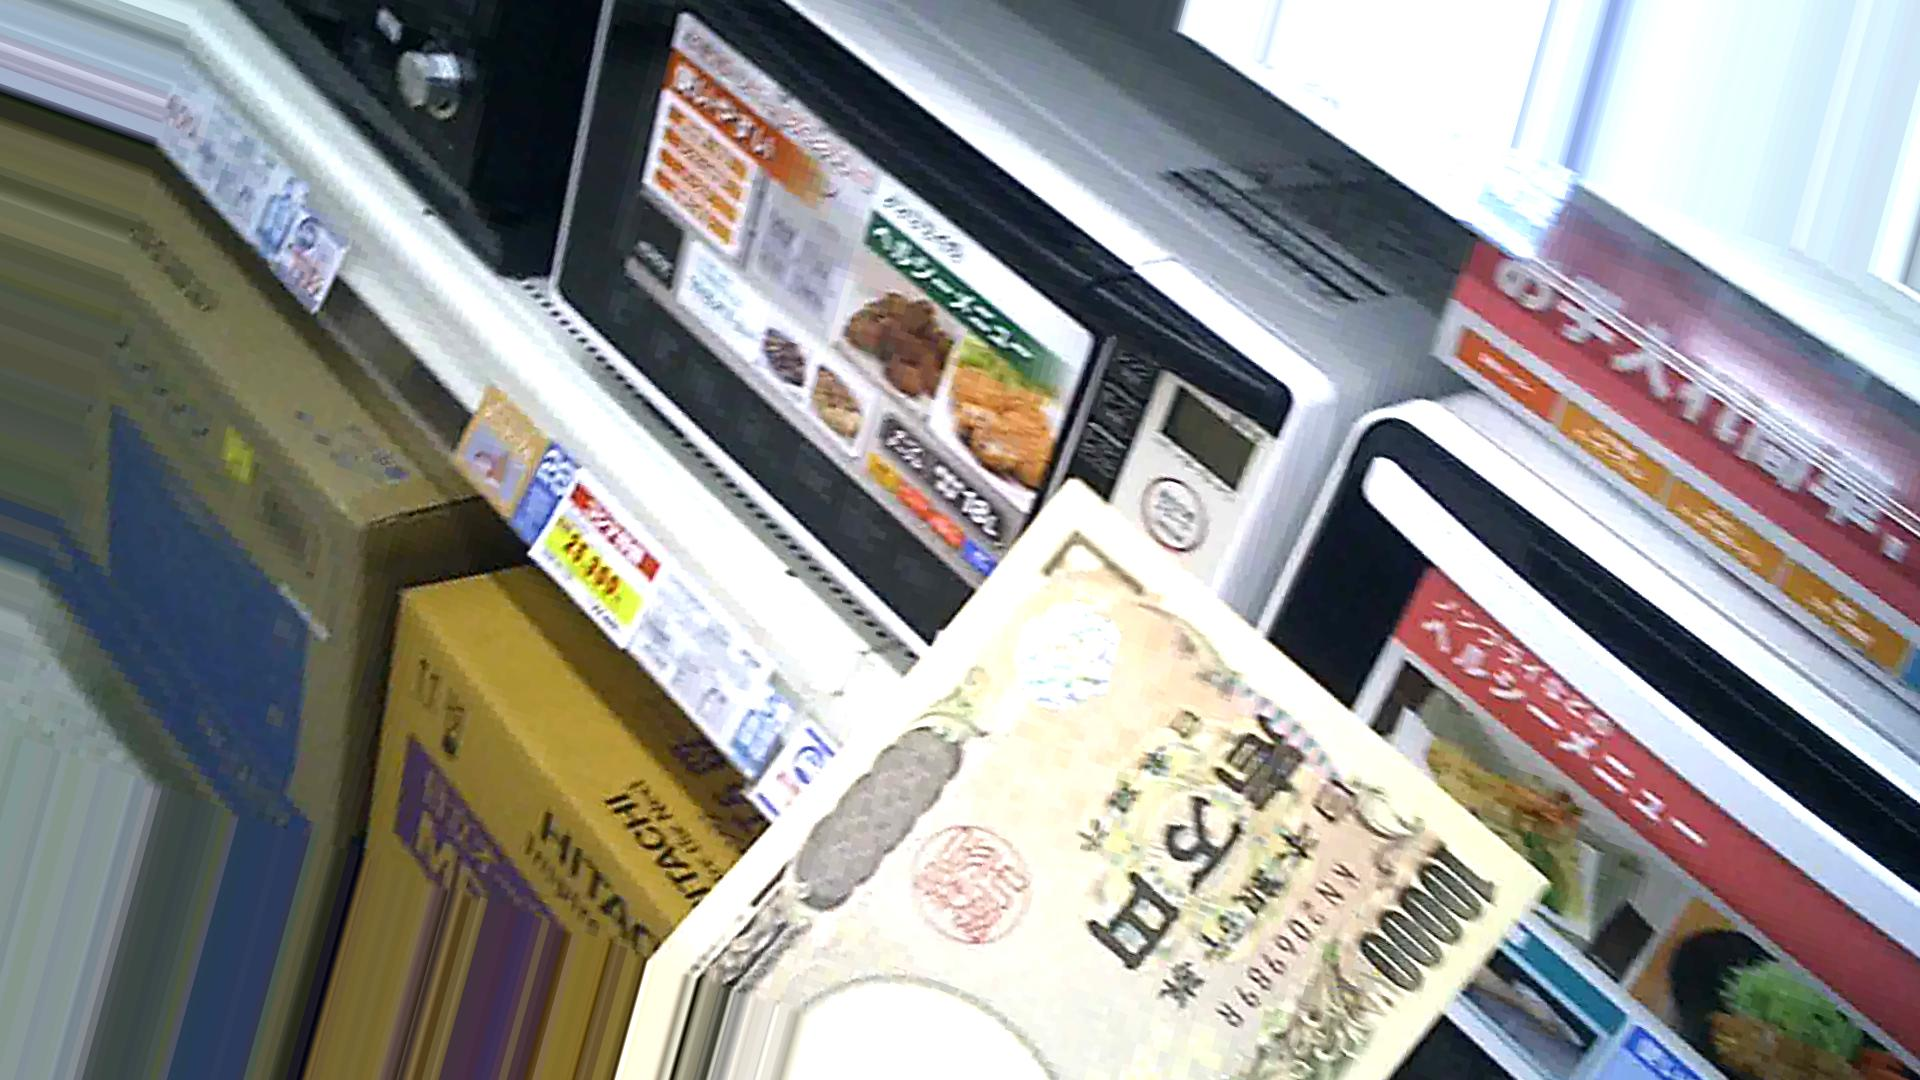10,000 Yen: (711, 516, 1515, 1064)
